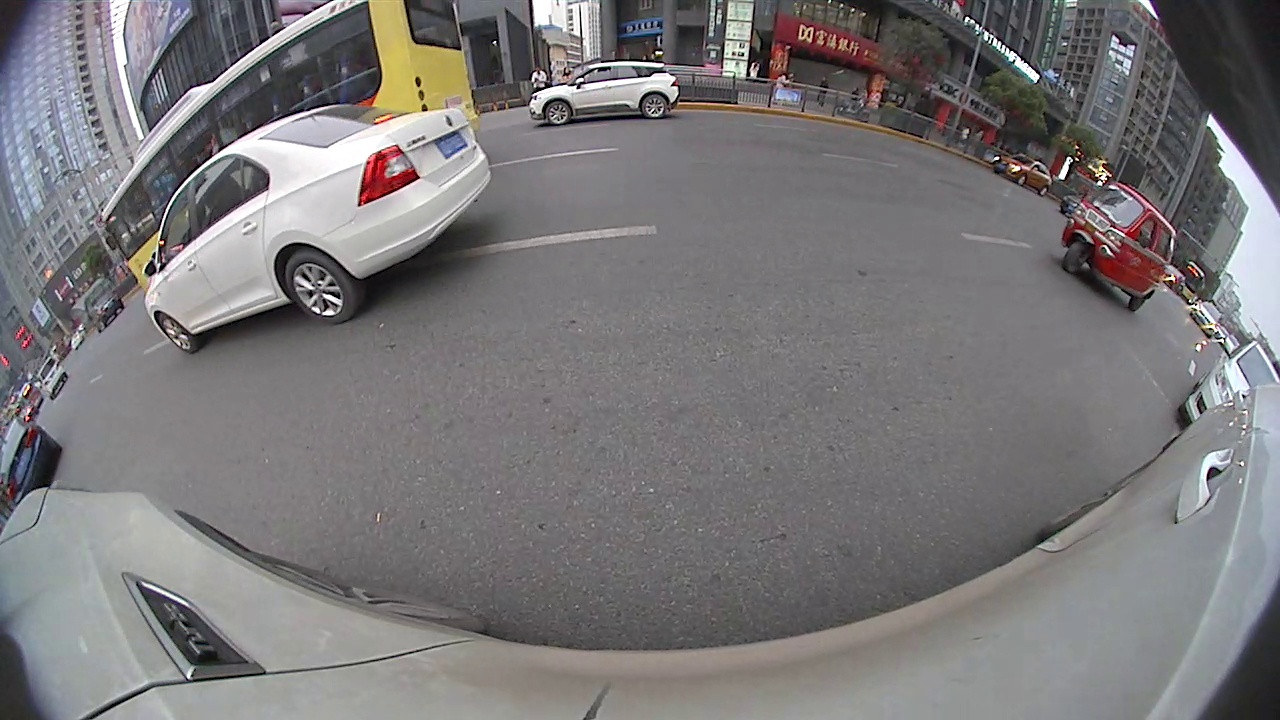bus: (98, 1, 482, 298)
car: (141, 101, 494, 353), (527, 61, 683, 127), (1173, 336, 1279, 428), (1, 414, 64, 513)
front: (156, 311, 201, 357), (543, 98, 572, 128)
rear: (282, 251, 363, 326), (638, 93, 670, 120)
rider: (1058, 178, 1177, 313)
